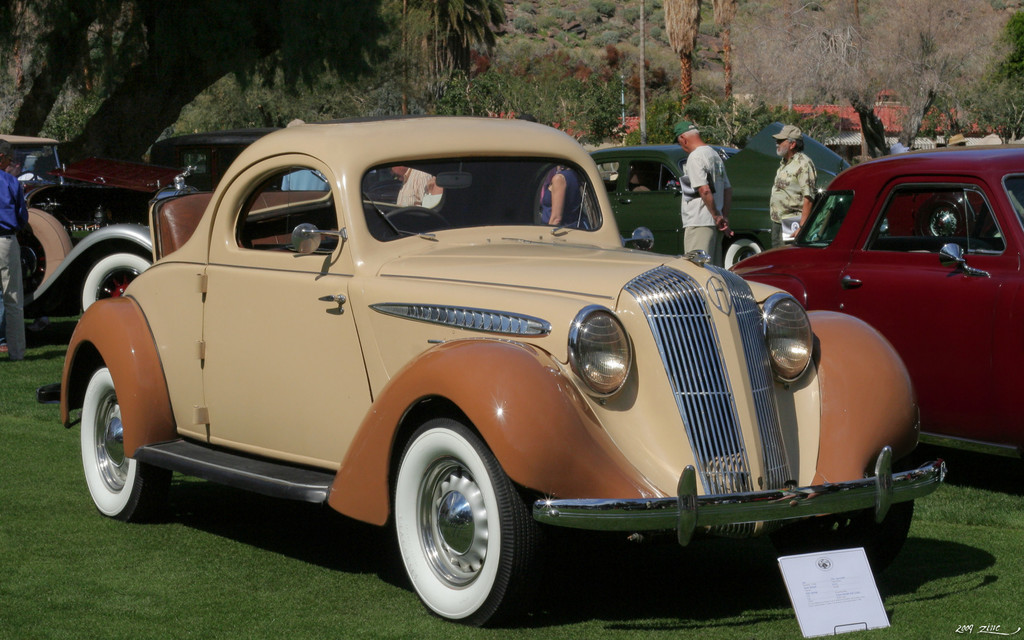mobil: (101, 120, 924, 604)
